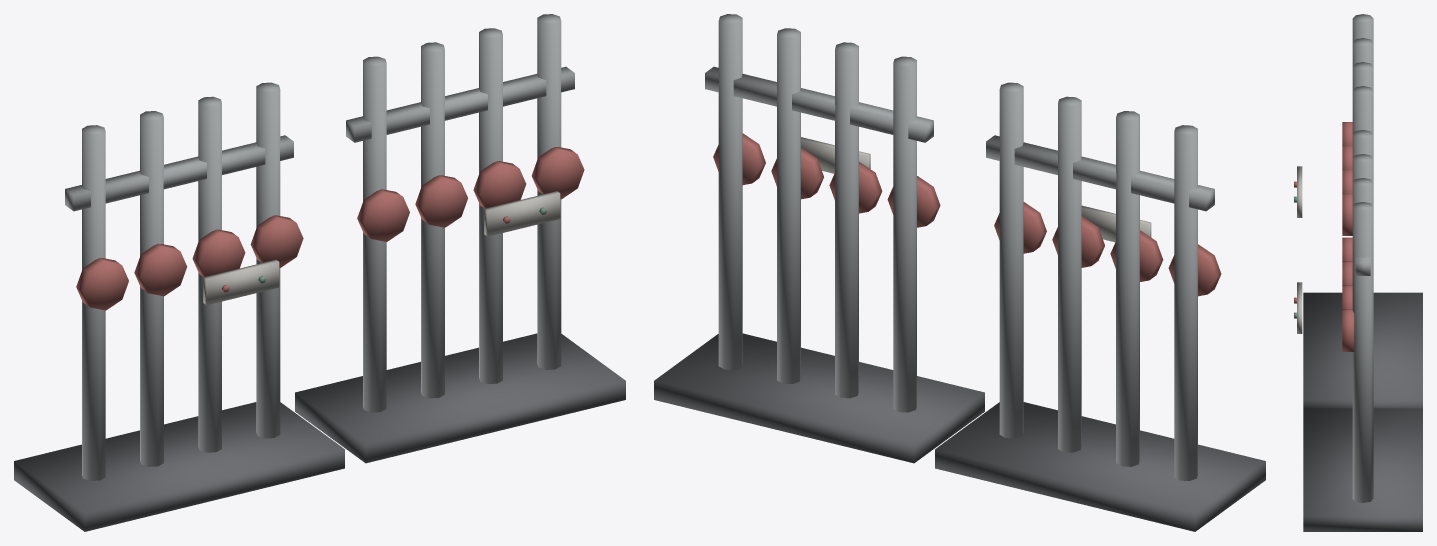
The model's file is pipe_valve_station__cluster.glb.
3 renders of one model, left to right at view 1: azimuth 30°, elevation 25°; view 2: azimuth 150°, elevation 25°; view 3: azimuth 270°, elevation 25°, orthographic. The views are drawn at different scales.
Parts seen in each view (by area): view 1: world; view 2: world; view 3: world.
Boxes of the visible parts, x1,y1,x2,y2 form: world: (14, 14, 625, 531); world: (654, 14, 1265, 531); world: (1294, 14, 1422, 531).
Size of the model in its own units: 1.77 by 1.14 by 0.431.
